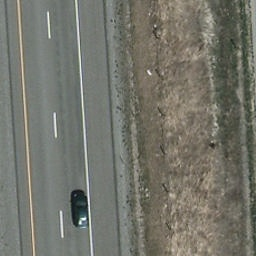car: (71, 193, 92, 228)
